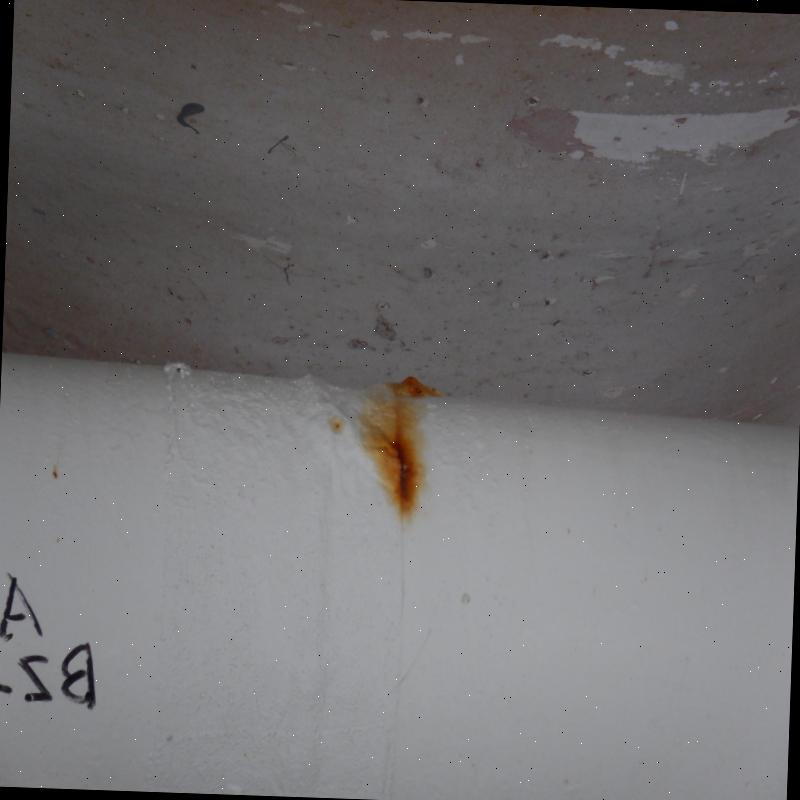corrosion: (382, 410, 423, 501)
